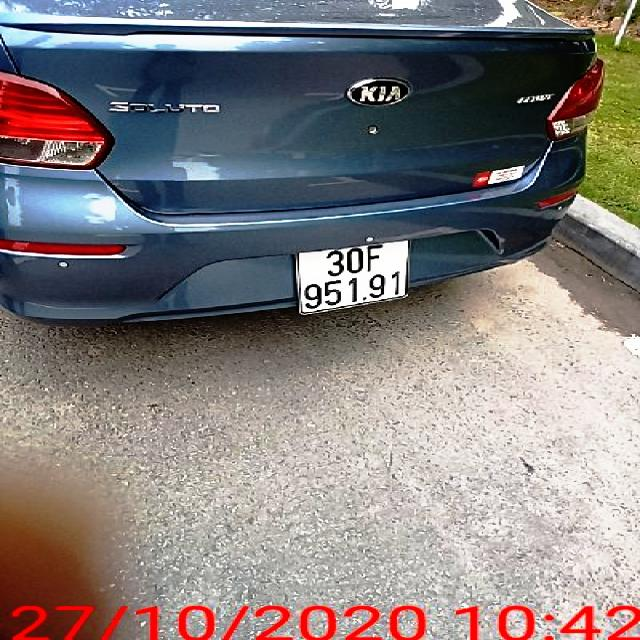license_plate: (297, 242, 409, 315)
